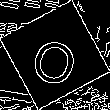O_N: (27, 24, 83, 86)
